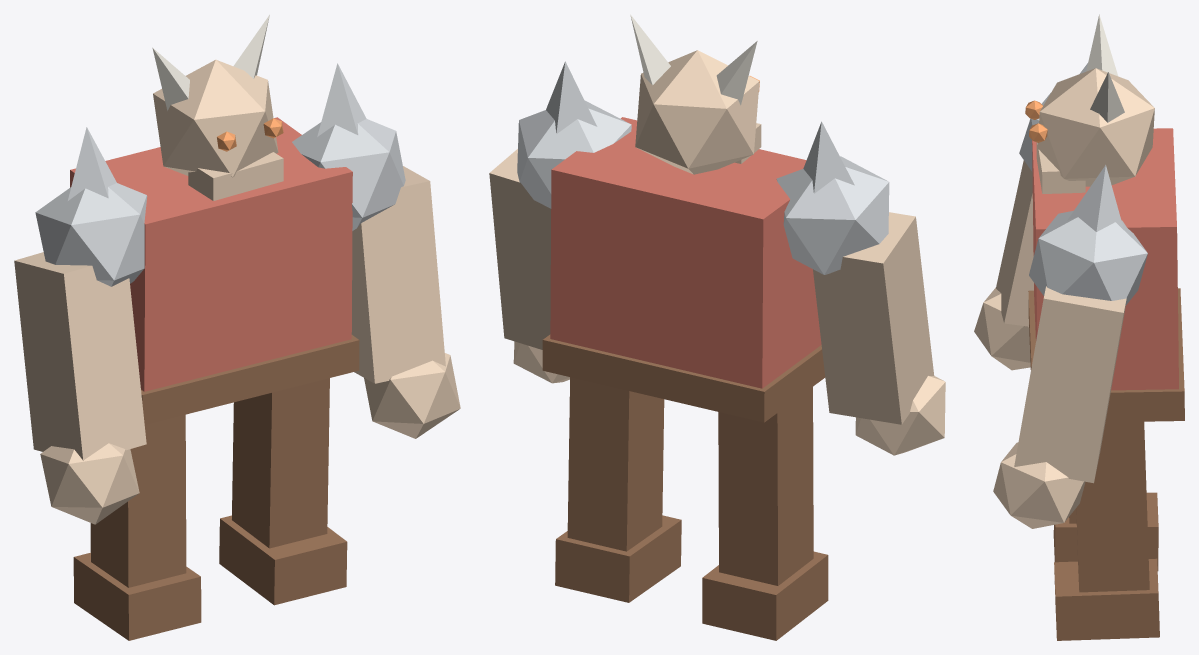
File: npcpose_brute_idle_01.glb
3 renders of one model, left to right at view 1: azimuth 30°, elevation 25°; view 2: azimuth 150°, elevation 25°; view 3: azimuth 270°, elevation 25°, orthographic. The views are drawn at different scales.
Visible parts, largest first — view 1: npcpose; view 2: npcpose; view 3: npcpose.
Boxes of the visible parts, x1=… form: npcpose: x1=14, y1=14, x2=460, y2=640; npcpose: x1=489, y1=14, x2=945, y2=640; npcpose: x1=974, y1=14, x2=1184, y2=640.
Size of the model in its own units: 1.43 by 1.86 by 0.6528.
